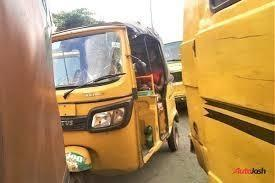keke: (45, 21, 182, 179)
